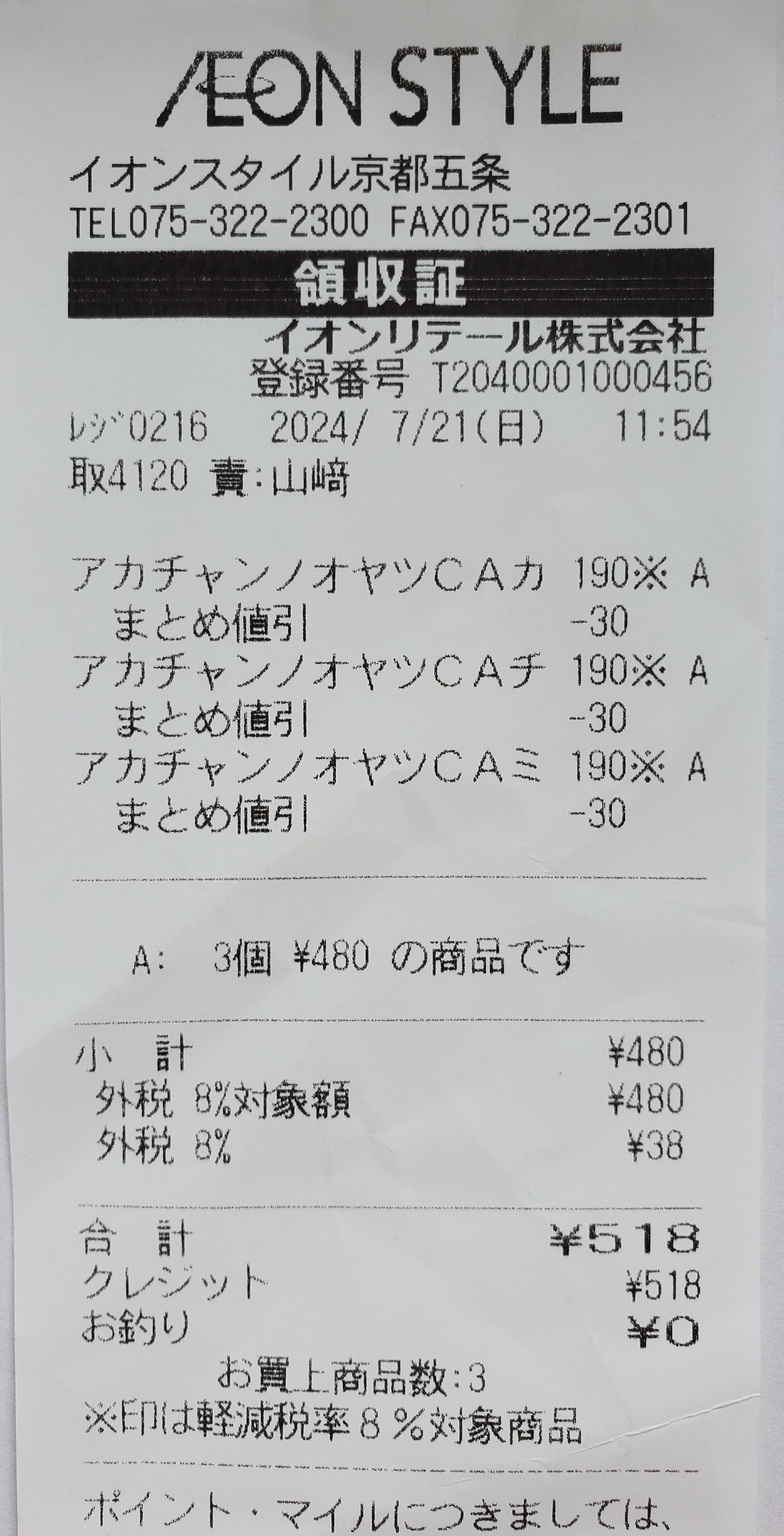Date: (257, 401, 563, 458)
Shopname: (138, 23, 654, 141)
Telnum: (125, 196, 375, 253)
Totalpay: (79, 1212, 723, 1267)
